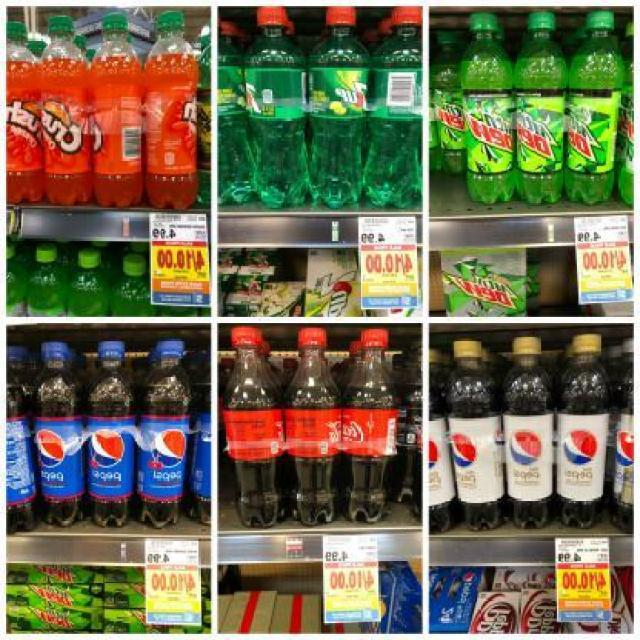Drinks: (246, 6, 309, 209), (309, 6, 371, 209), (223, 328, 283, 530), (363, 7, 423, 207), (565, 12, 625, 206), (286, 328, 343, 526), (134, 338, 192, 530), (342, 329, 399, 523), (447, 339, 504, 533), (555, 333, 611, 529), (502, 335, 556, 531), (461, 11, 513, 207), (513, 11, 565, 207), (32, 341, 84, 529), (84, 340, 135, 528)
